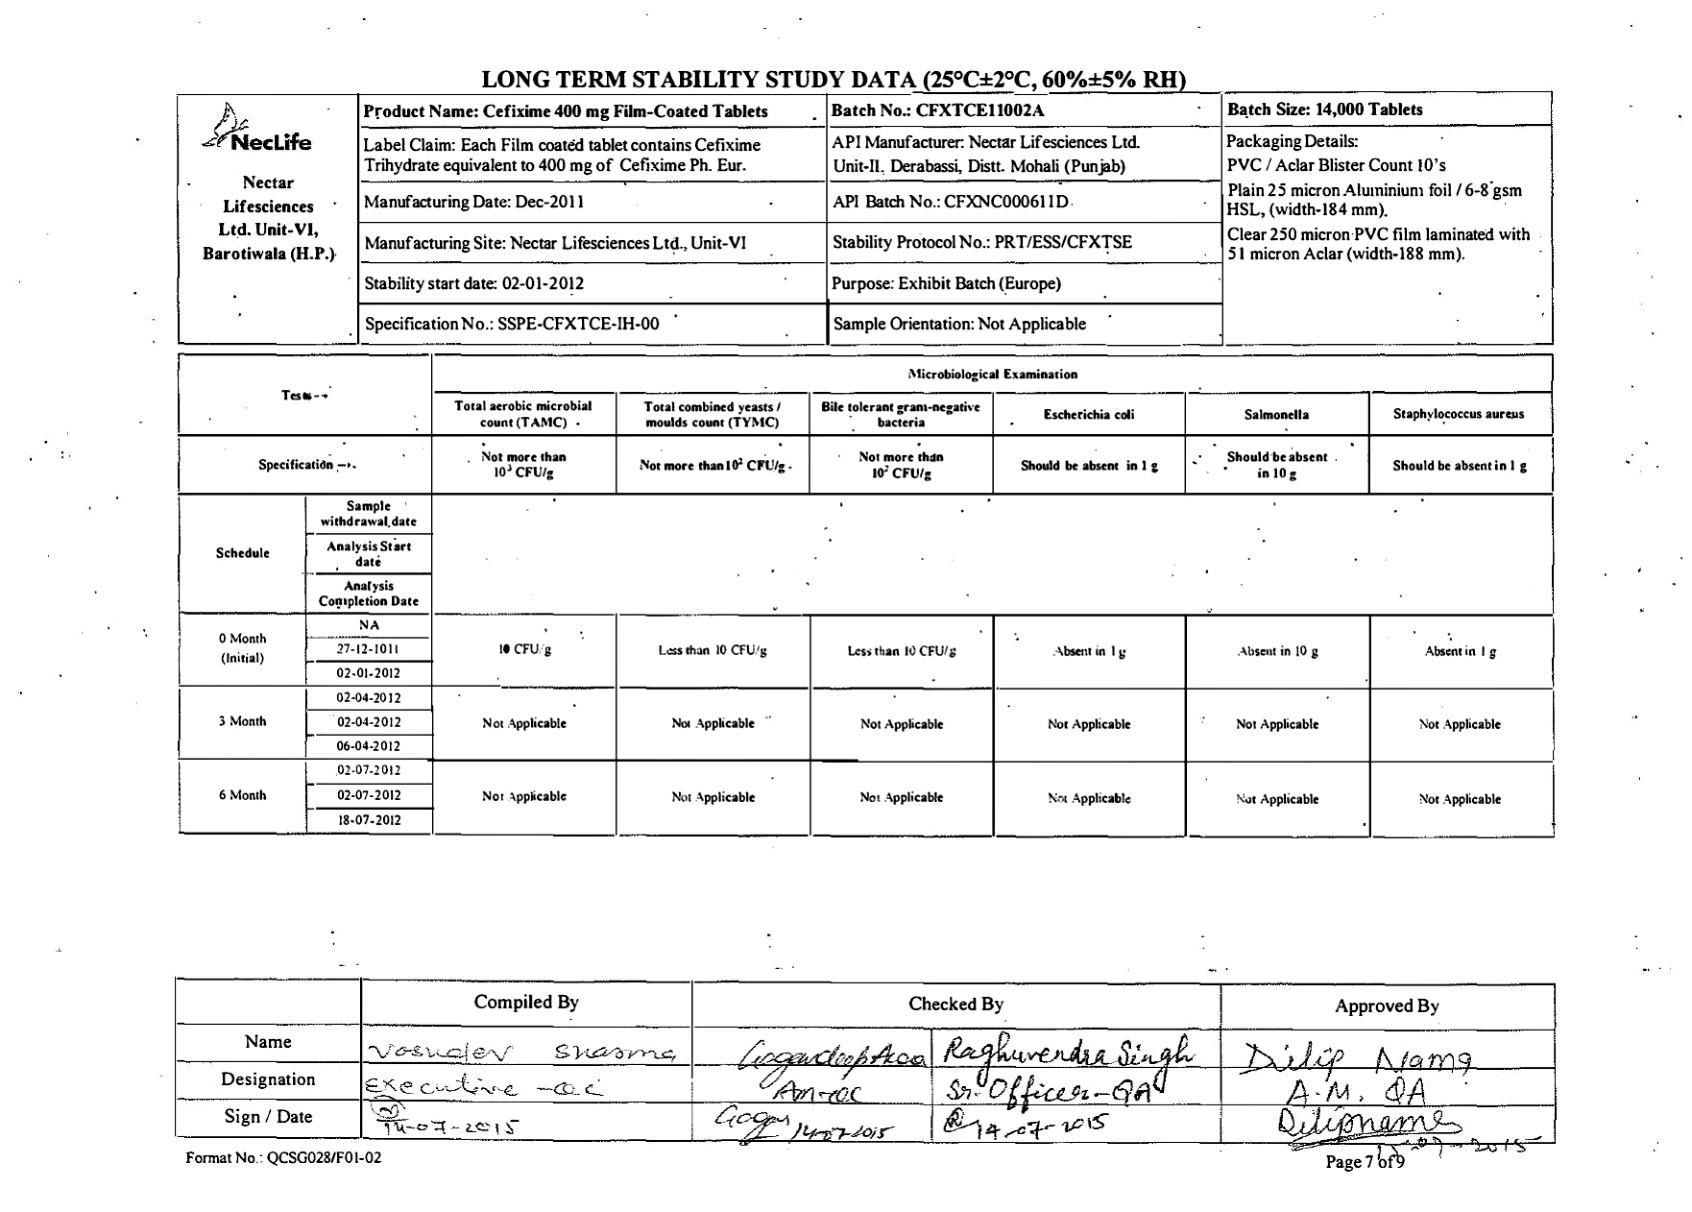full_lined: (174, 976, 1557, 1145)
merged_cells: (177, 352, 1556, 839), (174, 89, 1556, 346)
